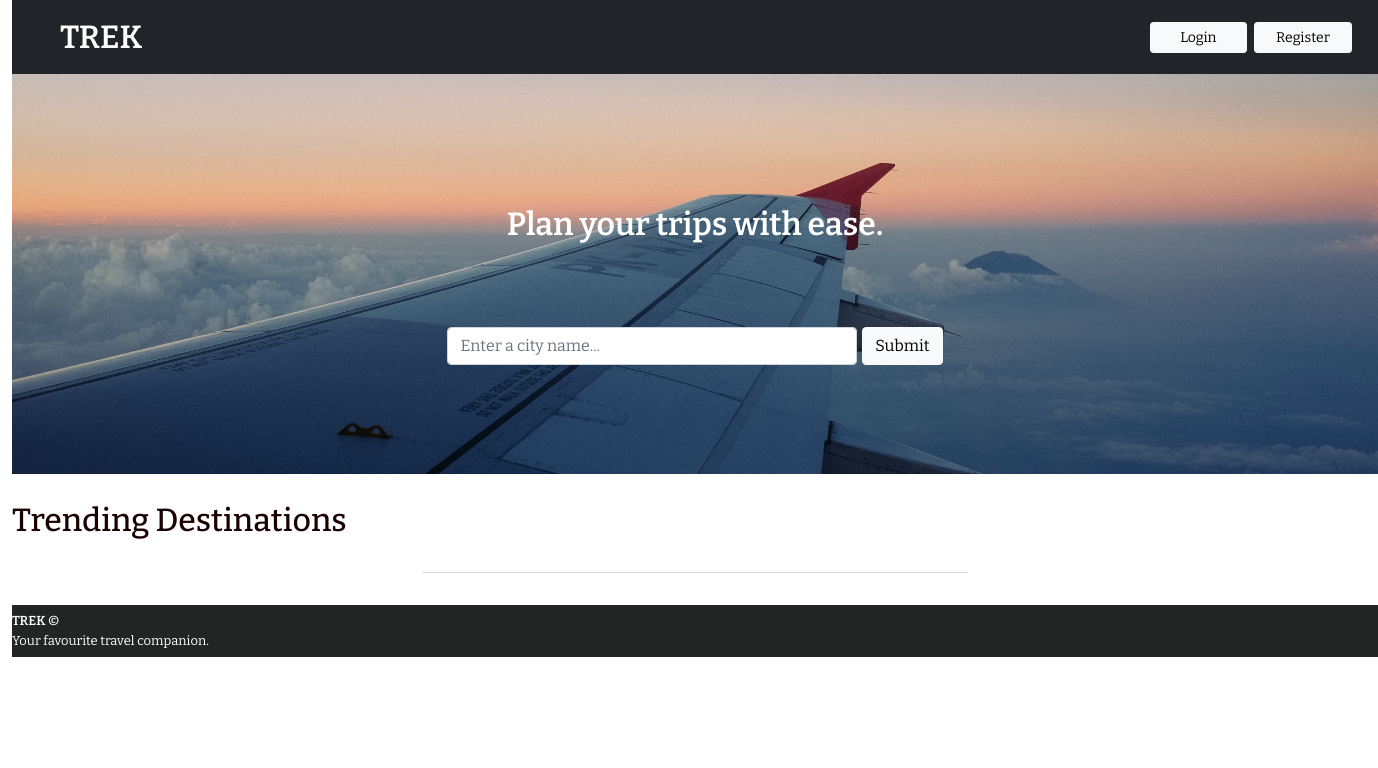
Test case: Submiting form without input shows Error
The image size is (1378, 768).
Click the button "Submit" at (902, 346), box [862, 327, 942, 365]
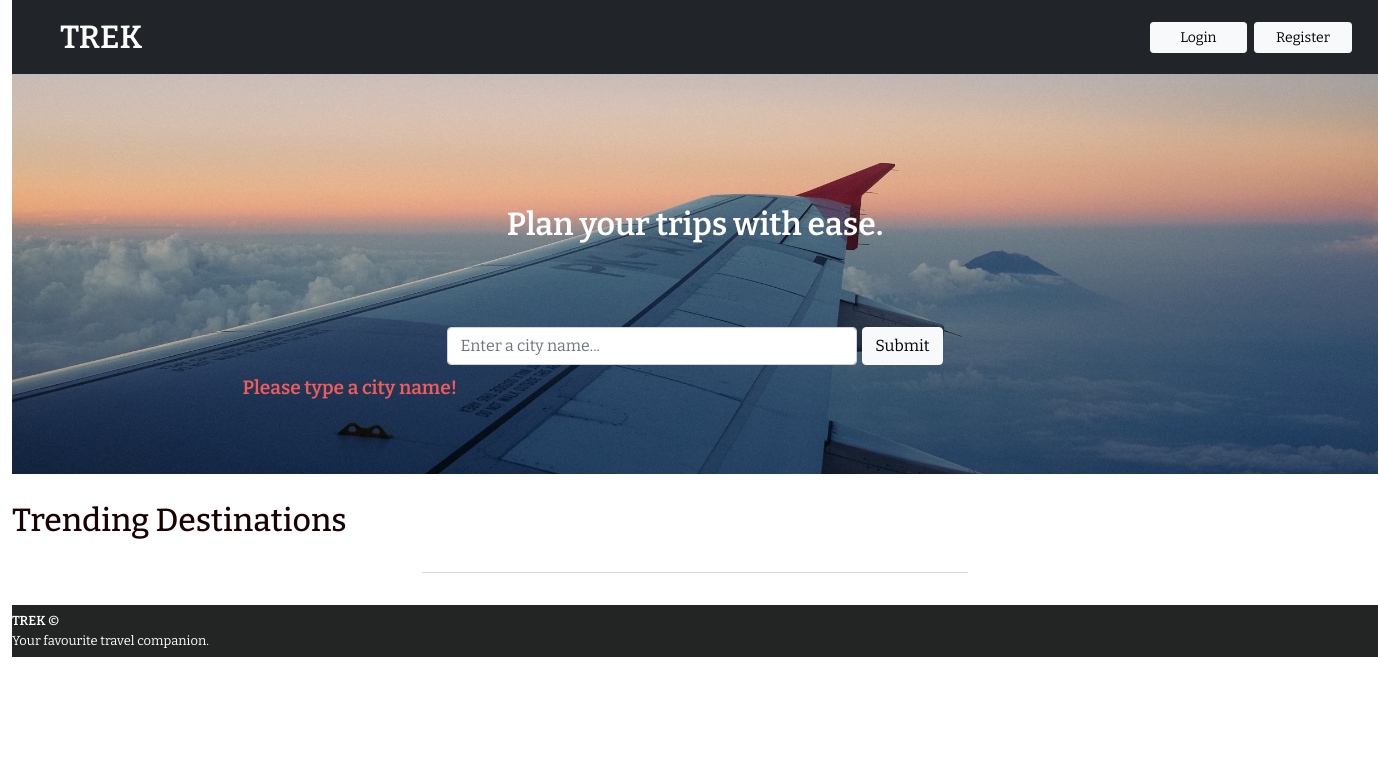
Now the text "Please type a city name!" is shown, box [242, 376, 457, 399]
